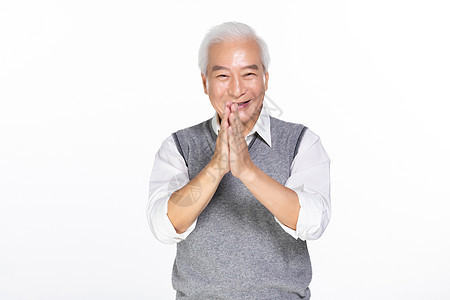no-phone: (226, 99, 264, 180), (208, 96, 232, 180)
